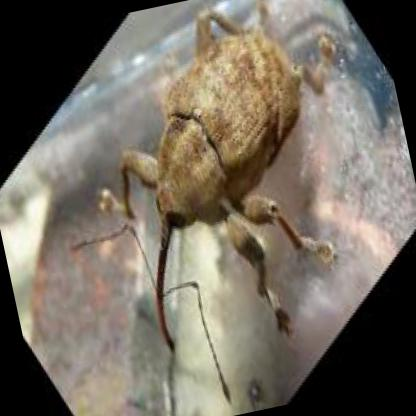ash weevil: (120, 18, 338, 354)
